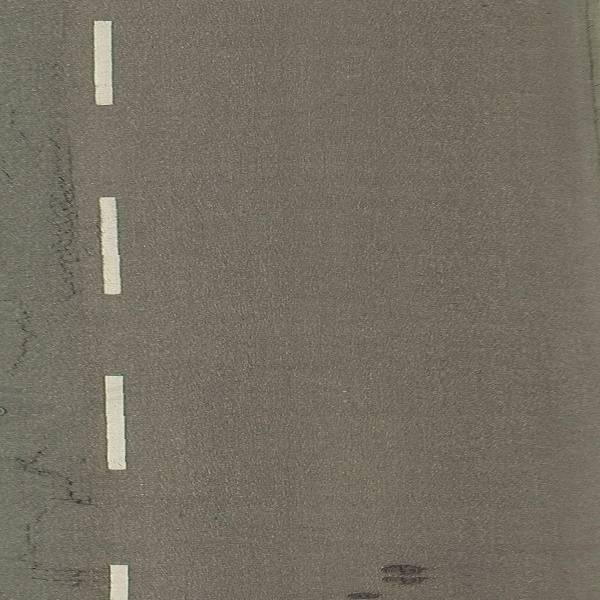road_damage: (9, 441, 103, 510), (46, 143, 82, 310), (10, 546, 92, 596), (9, 303, 38, 379)
